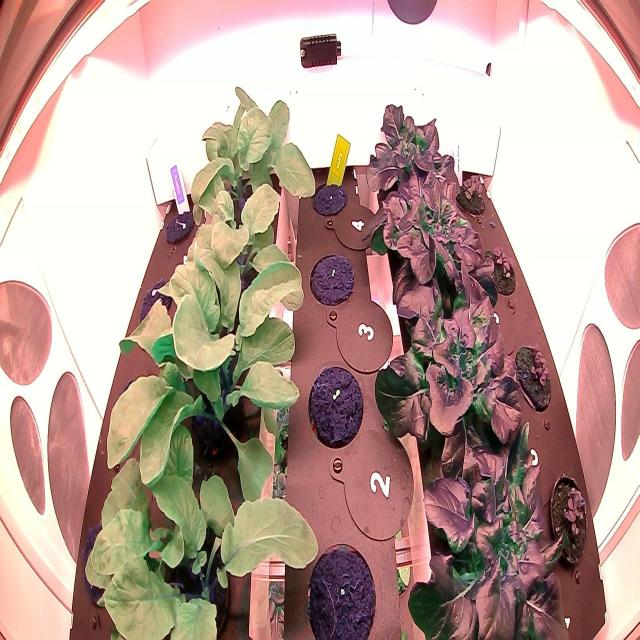germination: (543, 450, 593, 579), (304, 358, 366, 458), (509, 336, 558, 413), (478, 235, 518, 302), (156, 192, 197, 256), (449, 168, 492, 218)
pod: (295, 538, 386, 640), (303, 240, 362, 319), (132, 273, 176, 345), (305, 168, 353, 221)
